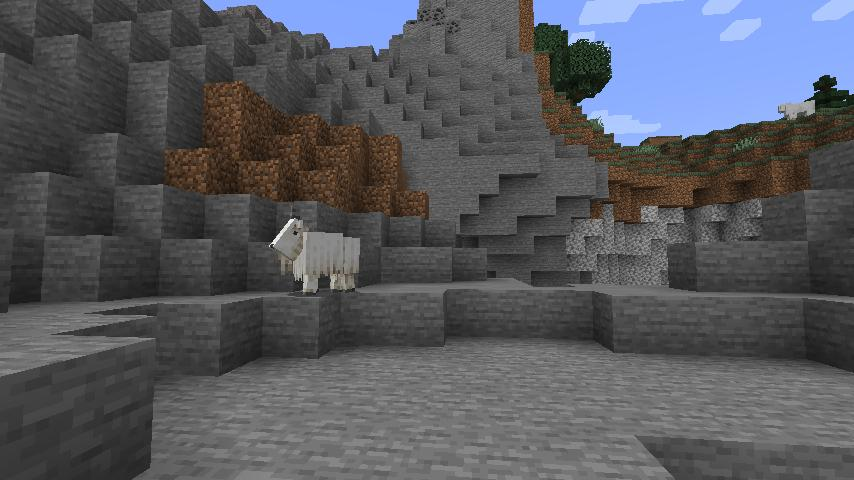goat: (268, 206, 362, 293)
sheep: (778, 99, 817, 120)
